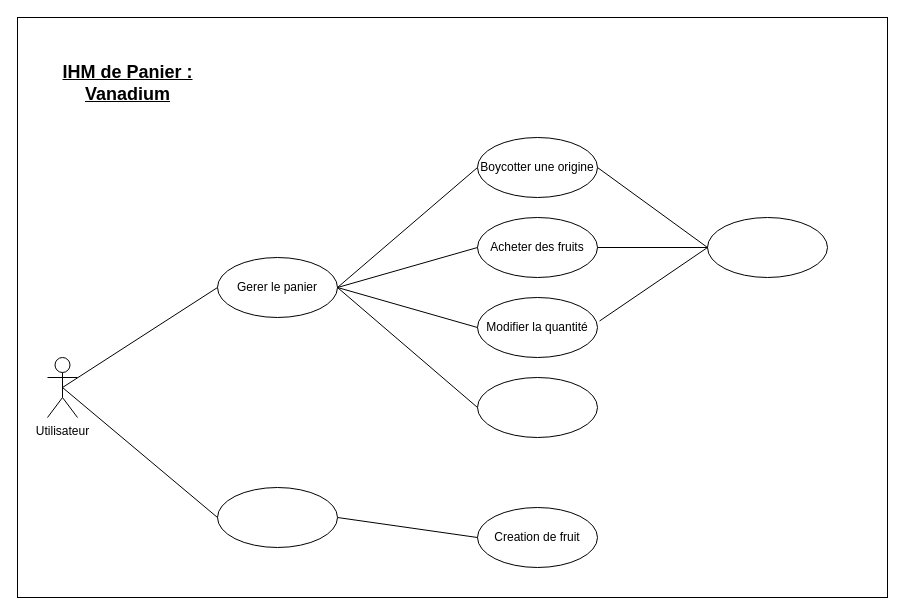
The diagram is 905 pixels wide and 615 high, and some of its shapes have lost their labels. The box of each missing label's shape, as (x1, y1, x2, y2) in pixels:
Choisir une origine: (706, 216, 828, 278)
Constituer un type de panier: (216, 486, 338, 548)
Retirer des fruits: (476, 376, 598, 438)
